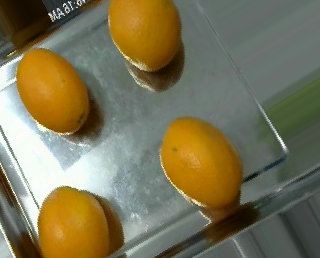Orange: (158, 117, 242, 210), (16, 47, 90, 134), (38, 185, 111, 258), (108, 1, 183, 72)
